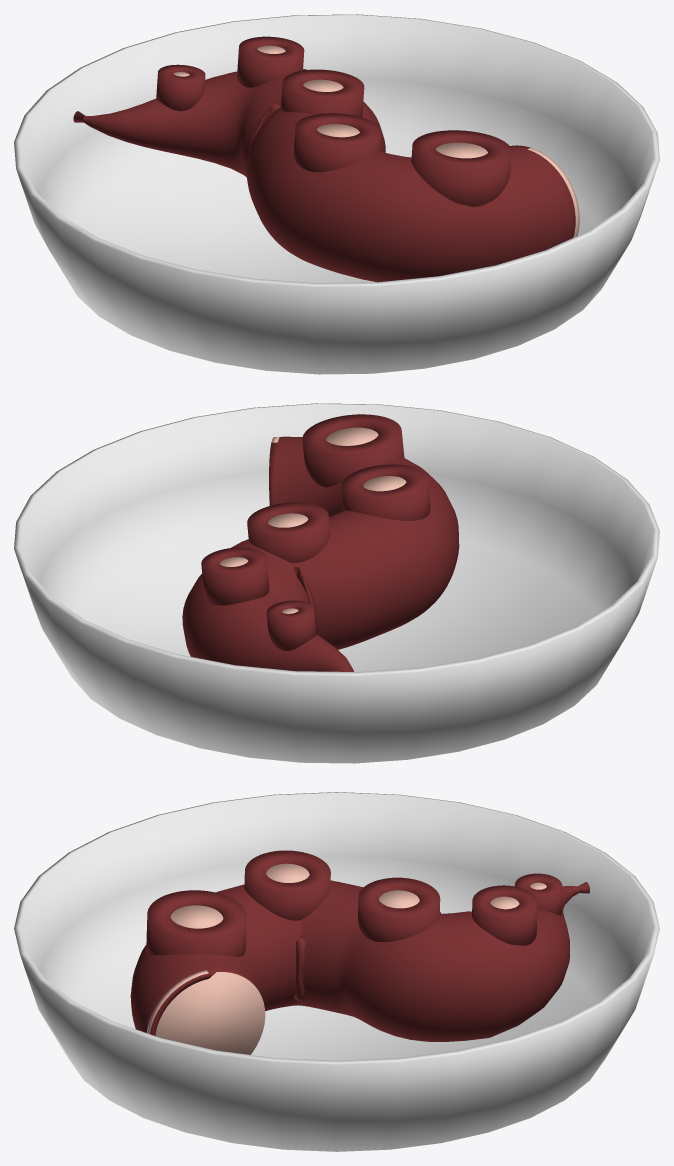
Rendered from TentalePlate.fbx.
3 views of the same model, one above another, from view 1: azimuth 30°, elevation 25°; view 2: azimuth 150°, elevation 25°; view 3: azimuth 270°, elevation 25° (orthographic).
Parts seen in each view (by area): view 1: Plate.002; view 2: Plate.002; view 3: Plate.002.
Boxes of the visible parts, left/top/right/bottom form: Plate.002: left=14, top=14, right=659, bottom=374; Plate.002: left=14, top=403, right=659, bottom=763; Plate.002: left=14, top=792, right=659, bottom=1151.
Size of the model in its own units: 131 by 35.01 by 131.
